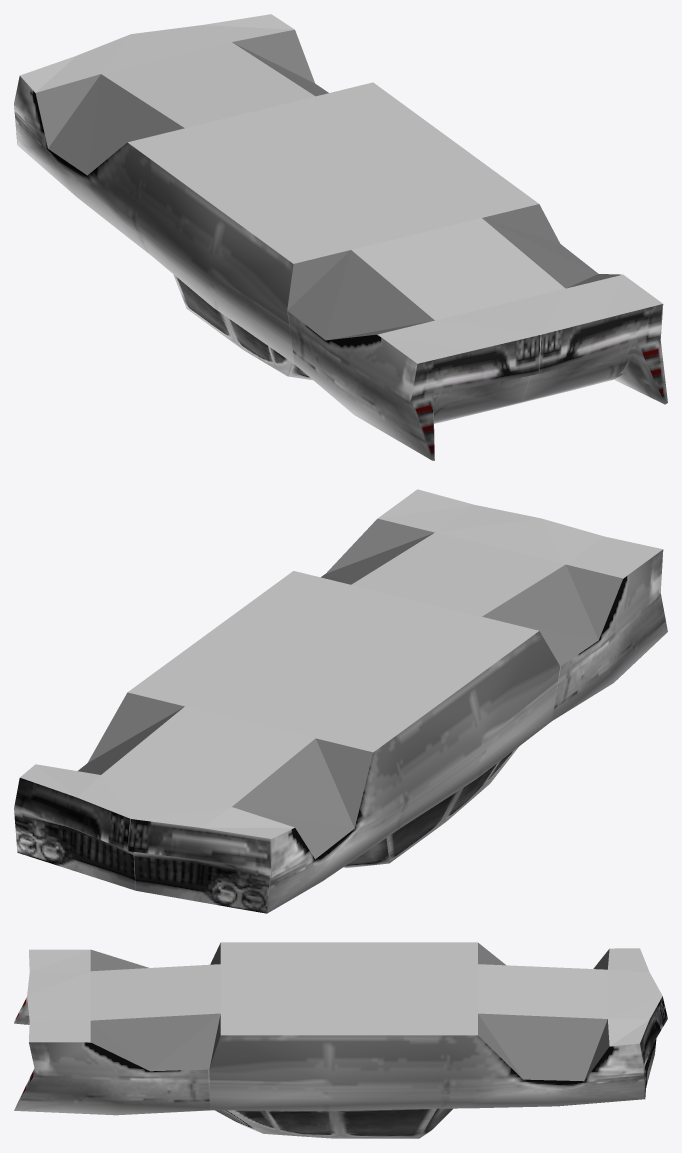
Rendered from HAVANA_model0.obj.
3 renders of one model, top to bottom at view 1: azimuth 30°, elevation 25°; view 2: azimuth 150°, elevation 25°; view 3: azimuth 270°, elevation 25°, orthographic. The views are drawn at different scales.
Parts seen in each view (by area): view 1: HAVANA_model0_clean_set21_id5_ft, HAVANA_model0_clean_flat, HAVANA_model0_clean_set36_id23, HAVANA_model0_clean_set36_id24, HAVANA_model0_clean_set36_id17, HAVANA_model0_clean_set36_id19, HAVANA_model0_clean_set36_id28, HAVANA_model0_clean_set36_id29; view 2: HAVANA_model0_clean_set21_id5_ft, HAVANA_model0_clean_flat, HAVANA_model0_clean_set36_id23, HAVANA_model0_clean_set36_id20, HAVANA_model0_clean_set36_id18, HAVANA_model0_clean_set36_id28, HAVANA_model0_clean_set36_id24, HAVANA_model0_clean_set36_id29, HAVANA_model0_clean_set36_id22; view 3: HAVANA_model0_clean_set21_id5_ft, HAVANA_model0_clean_set36_id23, HAVANA_model0_clean_flat, HAVANA_model0_clean_set36_id24, HAVANA_model0_clean_set36_id28, HAVANA_model0_clean_set36_id29, HAVANA_model0_clean_set36_id18, HAVANA_model0_clean_set36_id22.
Boxes of the visible parts, <box> form: HAVANA_model0_clean_set21_id5_ft: <box>20,14,662,363</box>; HAVANA_model0_clean_flat: <box>35,29,621,340</box>; HAVANA_model0_clean_set36_id23: <box>139,161,294,363</box>; HAVANA_model0_clean_set36_id24: <box>287,311,431,459</box>; HAVANA_model0_clean_set36_id17: <box>514,304,667,404</box>; HAVANA_model0_clean_set36_id19: <box>411,334,541,460</box>; HAVANA_model0_clean_set36_id28: <box>14,76,153,255</box>; HAVANA_model0_clean_set36_id29: <box>173,274,291,375</box>; HAVANA_model0_clean_set21_id5_ft: <box>20,489,662,838</box>; HAVANA_model0_clean_flat: <box>78,518,622,859</box>; HAVANA_model0_clean_set36_id23: <box>399,631,560,827</box>; HAVANA_model0_clean_set36_id20: <box>127,819,271,913</box>; HAVANA_model0_clean_set36_id18: <box>14,778,135,890</box>; HAVANA_model0_clean_set36_id28: <box>267,733,412,913</box>; HAVANA_model0_clean_set36_id24: <box>552,549,667,720</box>; HAVANA_model0_clean_set36_id29: <box>386,747,518,863</box>; HAVANA_model0_clean_set36_id22: <box>343,838,389,868</box>; HAVANA_model0_clean_set21_id5_ft: <box>27,942,662,1046</box>; HAVANA_model0_clean_set36_id23: <box>209,1035,437,1111</box>; HAVANA_model0_clean_flat: <box>90,943,609,1081</box>; HAVANA_model0_clean_set36_id24: <box>14,1042,210,1115</box>; HAVANA_model0_clean_set36_id28: <box>437,1035,645,1108</box>; HAVANA_model0_clean_set36_id29: <box>228,1108,436,1138</box>; HAVANA_model0_clean_set36_id18: <box>640,996,667,1096</box>; HAVANA_model0_clean_set36_id22: <box>215,1108,452,1137</box>.
Size of the model in its own units: 282 by 149 by 750.
Materials: 14 (12 with a texture image).
